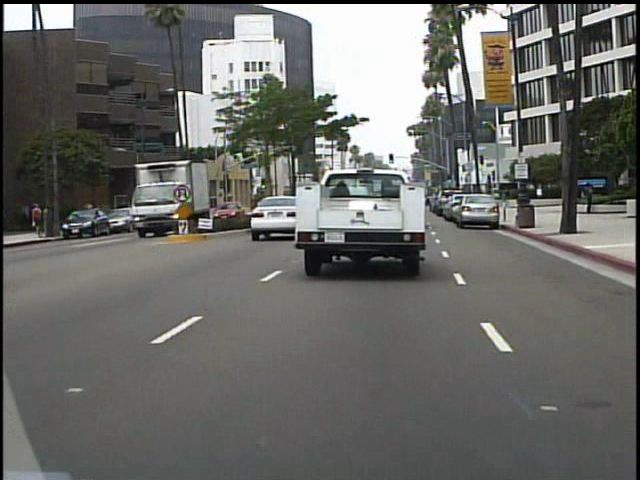person: (580, 179, 596, 217)
